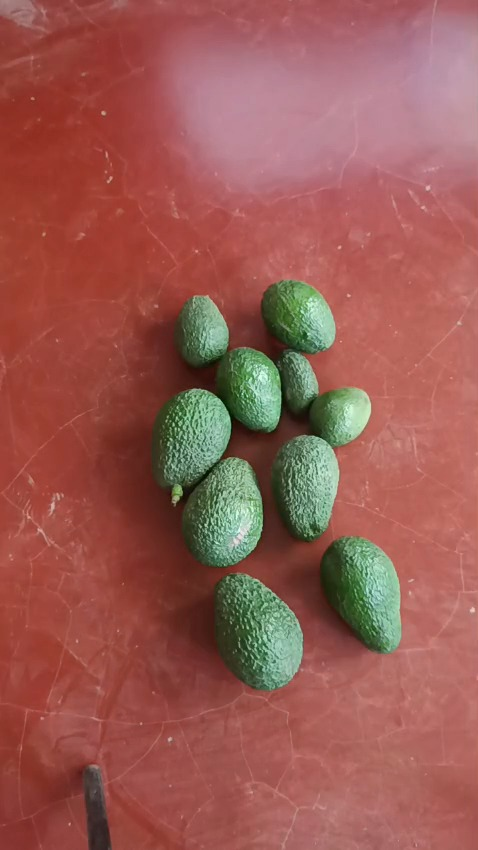Primera: (212, 572, 303, 686), (319, 536, 401, 650), (181, 457, 264, 565), (150, 388, 232, 494), (271, 435, 339, 540)
Segunda: (214, 346, 282, 432), (261, 279, 335, 352)
Tercera: (308, 386, 372, 446), (175, 294, 228, 366), (276, 349, 319, 416)
